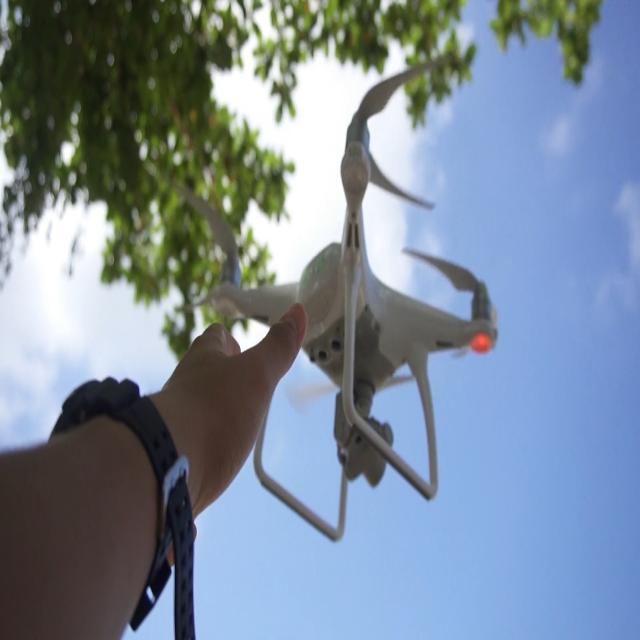Drone: (219, 112, 530, 509)
